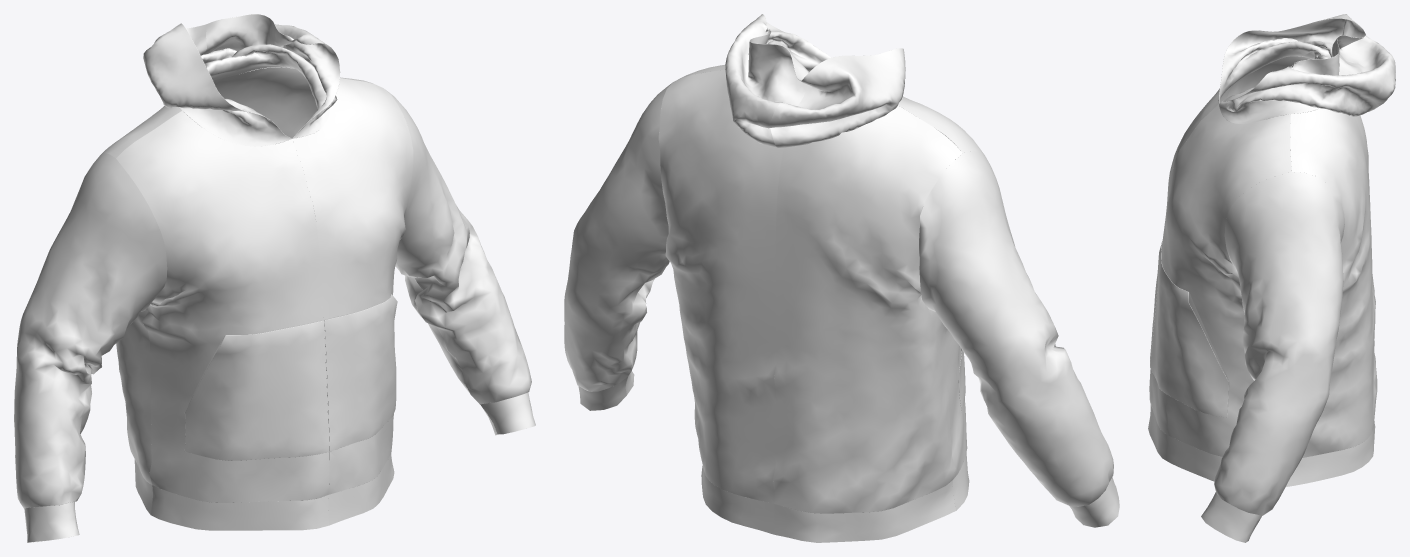
Rendered from catalogHudi.glb.
3 renders of one model, left to right at view 1: azimuth 30°, elevation 25°; view 2: azimuth 150°, elevation 25°; view 3: azimuth 270°, elevation 25°, orthographic. The views are drawn at different scales.
Parts seen in each view (by area): view 1: hudi; view 2: hudi; view 3: hudi.
Boxes of the visible parts, bbox=[...] form: hudi: bbox=[14, 14, 535, 542]; hudi: bbox=[564, 14, 1119, 542]; hudi: bbox=[1148, 14, 1395, 542].
Size of the model in its own units: 8.61 by 7.2 by 3.98.
Materials: 1 (1 with a texture image).
